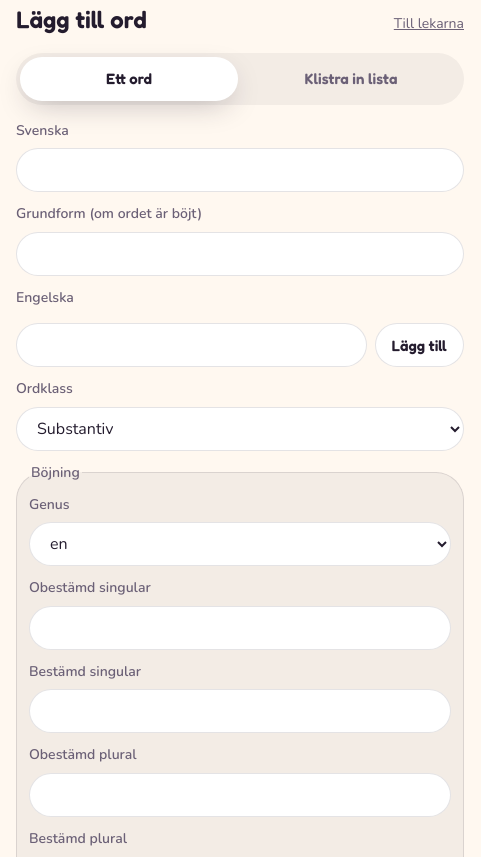
Test case: Add › blocks a save with no swedish
This screenshot has width=481, height=857.
In the field named "Engelska": (191,345) [16,323,367,367], type "fridge"
(page scrolled)
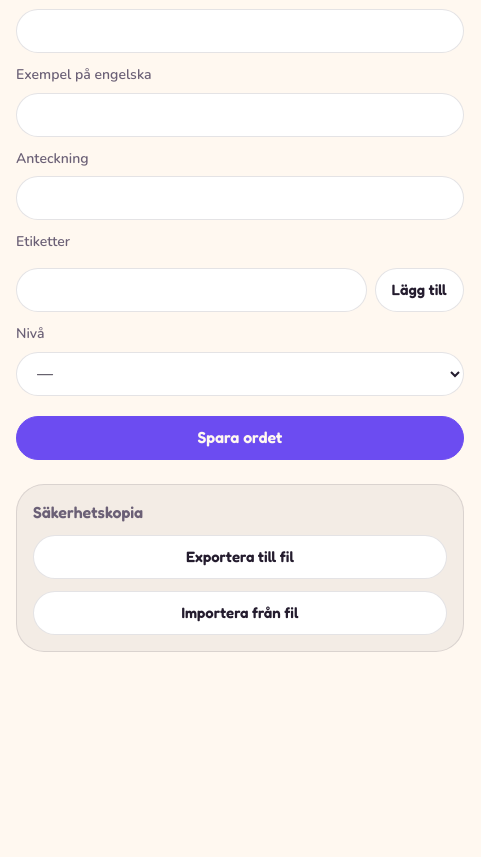
Click the button "Spara ordet": (240,438) [16,416,464,460]
(page scrolled)
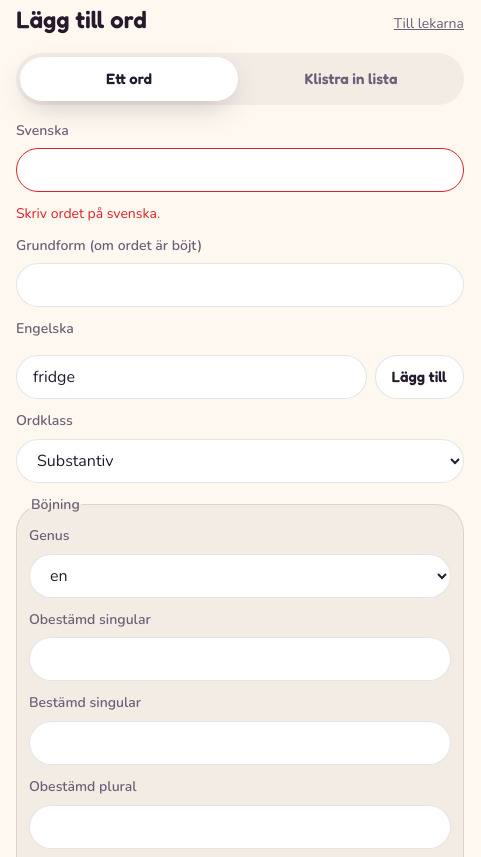
expect the message reads "Skriv ordet på svenska.": met, box [16,204,160,223]
